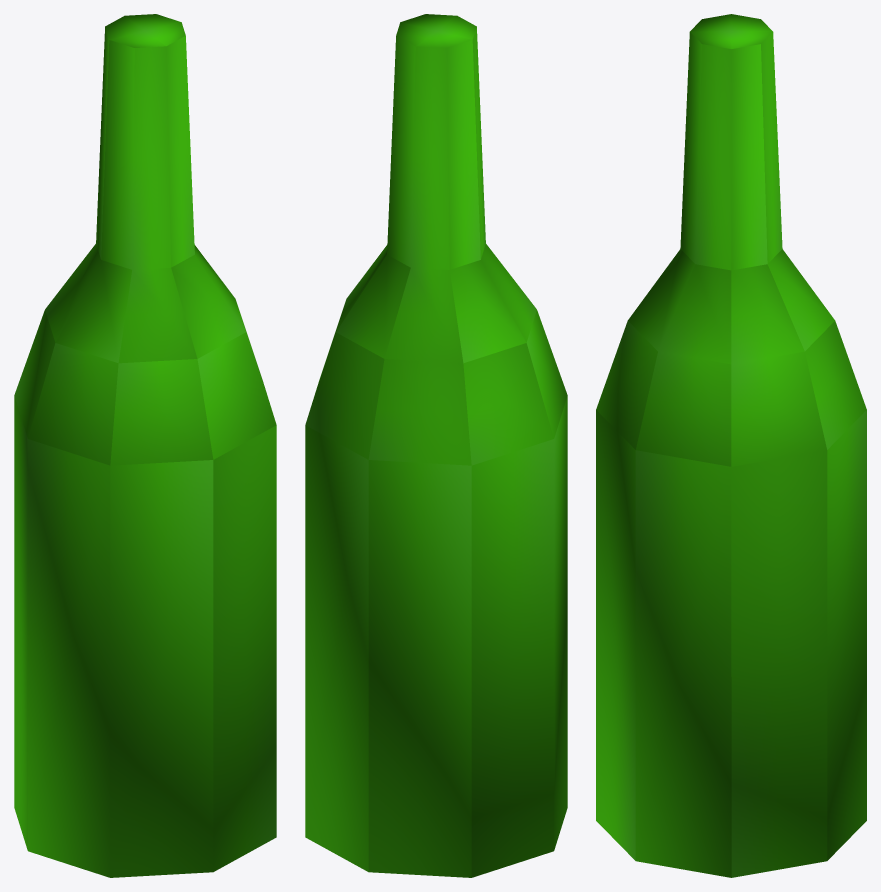
The model's file is bottle.fbx.
3 views of the same model, side by side, from view 1: azimuth 30°, elevation 25°; view 2: azimuth 150°, elevation 25°; view 3: azimuth 270°, elevation 25° (orthographic).
Parts seen in each view (by area): view 1: Mesh; view 2: Mesh; view 3: Mesh.
Boxes of the visible parts, x1,y1,x2,y2 form: Mesh: (14, 14, 276, 877); Mesh: (305, 14, 567, 877); Mesh: (596, 14, 866, 877).
Size of the model in its own units: 40.38 by 130 by 40.38.
